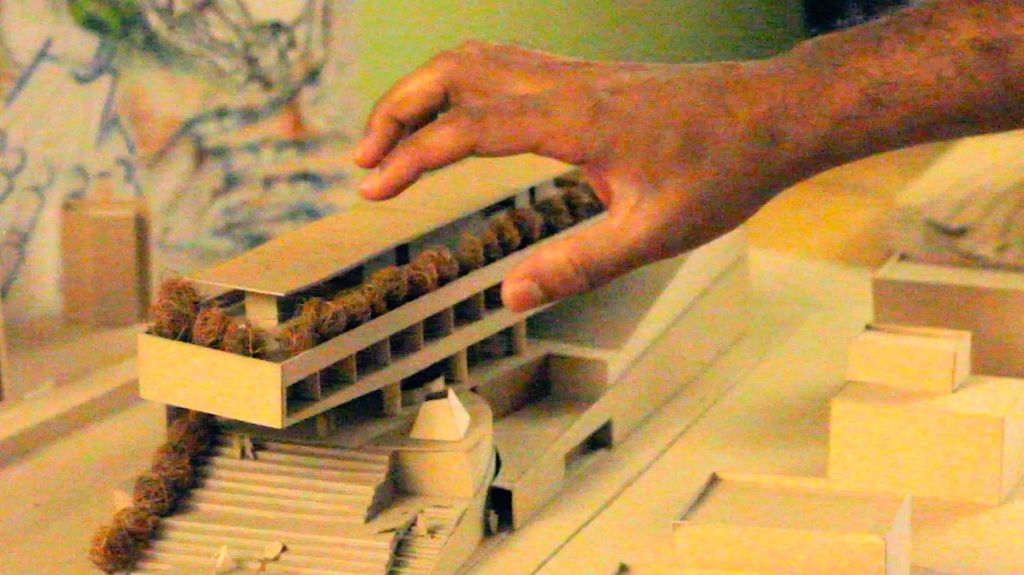Human_hand: (341, 24, 923, 292)
